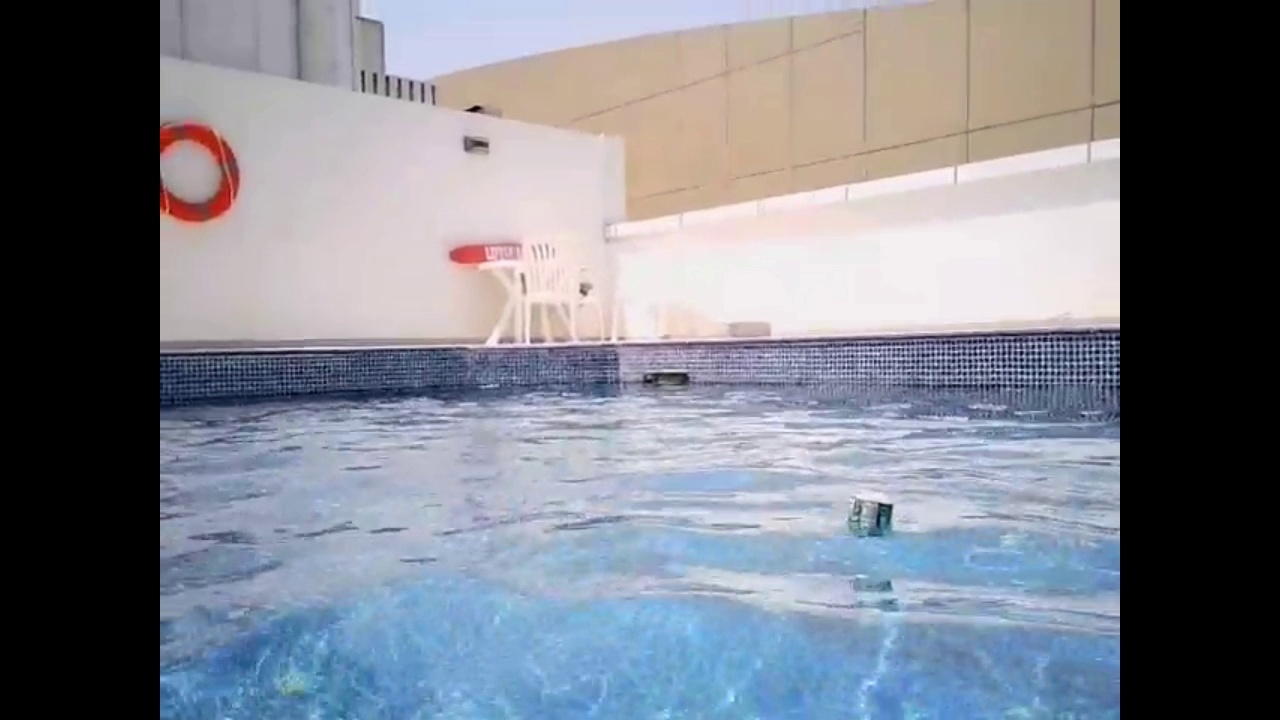debris: (836, 483, 898, 549)
